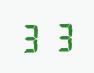three: (19, 20, 46, 53), (47, 19, 74, 52)
